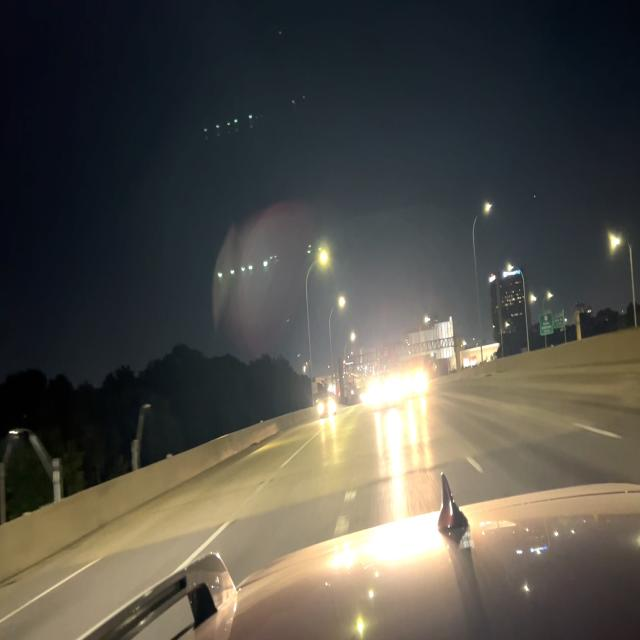back-of-sign: (403, 316, 456, 361)
